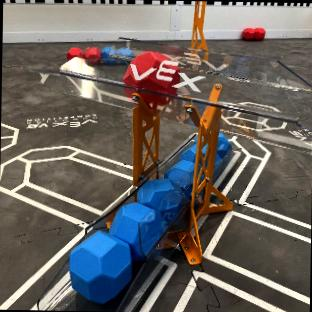Med_goal: (36, 43, 312, 310)
V5_BLUE: (70, 229, 130, 302), (112, 203, 165, 257), (137, 178, 184, 222), (167, 160, 192, 197)
blueingoal: (123, 51, 179, 91)
